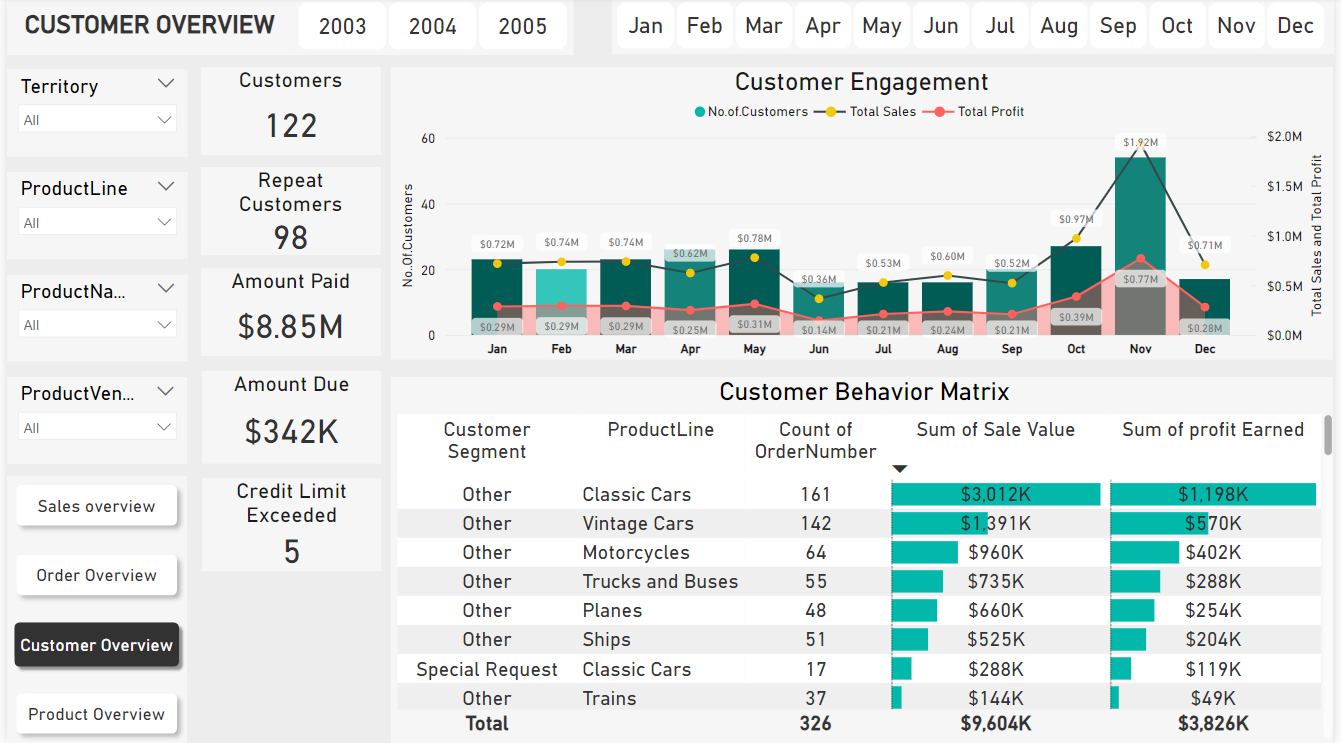

The dashboard page shown, as its layout file describes it:
{"tool":"powerbi","page":{"name":"Customer Overview","canvas":[1280,720],"ordinal":2},"visuals":[{"type":"textbox","box":[0,0,275.7,55.7],"z":0},{"type":"advancedSlicerVisual","fields":{"Values":["Date.Date.Variation.Date Hierarchy.Year"]},"box":[276.3,0,270.2,56.2],"z":1000},{"type":"advancedSlicerVisual","fields":{"Values":["Date.Month"]},"box":[583.3,0,696.7,55.6],"z":2000},{"type":"slicer","fields":{"Values":["dimoffices.Territory"]},"box":[0,70,174.3,84.3],"z":3000},{"type":"slicer","fields":{"Values":["dimproducts.ProductLine"]},"box":[0,168.6,174.3,84.3],"z":4000},{"type":"slicer","fields":{"Values":["dimproducts.ProductName"]},"box":[0,267.1,174.3,84.3],"z":5000},{"type":"slicer","fields":{"Values":["dimproducts.ProductVendor"]},"box":[0,366.2,173.8,83.8],"z":6000},{"type":"card","title":"Repeat Customers","fields":{"Values":["Count(factorders.customerNumber)"]},"box":[186.9,164,173.7,84.4],"z":7000},{"type":"card","title":"Customers","fields":{"Values":["Count(dimcustomer.customerName)"]},"box":[186.9,67.5,173.7,84.4],"z":8000},{"type":"lineClusteredColumnComboChart","title":"Customer Engagement","fields":{"Category":["Date.Month","factorders.Discount Segment"],"Y2":["Measures (2).Total Sales","Measures (2).Total Profit"],"Y":["Measures (2).No.of.Customers"]},"box":[370.8,67.8,908.9,282.8],"z":9000},{"type":"card","title":"Amount Paid","fields":{"Values":["Measures (2).Paid Amt"]},"box":[186.9,261.7,173.7,84.4],"z":10000},{"type":"card","title":"Amount Due","fields":{"Values":["Measures (2).Due amount"]},"box":[187.6,360.7,173.1,89.5],"z":11000},{"type":"tableEx","title":"Customer Behavior Matrix","fields":{"Values":["factorders.Customer Segment","dimproducts.ProductLine","Count(factorders.OrderNumber)","Sum(factorders.Sale Value)","Sum(factorders.profit Earned)"]},"box":[370.8,366.5,908.9,353.5],"z":12000},{"type":"card","title":"Credit Limit Exceeded","fields":{"Values":["Measures (2).Credit Limit Exceeded"]},"box":[187.6,464.6,173.1,89.5],"z":13000},{"type":"pageNavigator","box":[0,461.9,173.7,258.1],"z":14000}]}

Visuals, with their boxes in screenshot pixels (x1, y1, x2, y2), scaled from the page's 1280x720 canvas onto the 1341x743 screenshot:
textbox: (0,0,289,57)
advancedSlicerVisual - Date.Date.Variation.Date Hierarchy.Year: (289,0,573,58)
advancedSlicerVisual - Date.Month: (611,0,1340,57)
slicer - dimoffices.Territory: (0,72,183,159)
slicer - dimproducts.ProductLine: (0,174,183,261)
slicer - dimproducts.ProductName: (0,276,183,363)
slicer - dimproducts.ProductVendor: (0,378,182,464)
"Repeat Customers" card: (196,169,378,256)
"Customers" card: (196,70,378,157)
"Customer Engagement" lineClusteredColumnComboChart: (388,70,1340,362)
"Amount Paid" card: (196,270,378,357)
"Amount Due" card: (197,372,378,465)
"Customer Behavior Matrix" tableEx: (388,378,1340,742)
"Credit Limit Exceeded" card: (197,479,378,572)
pageNavigator: (0,477,182,742)
